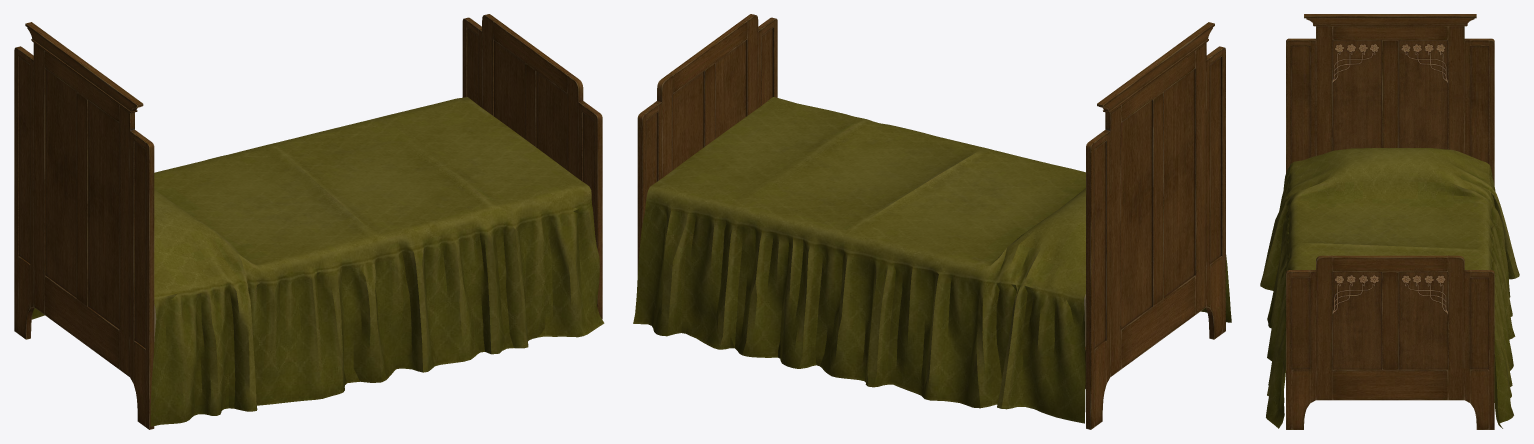
Rendered from bed-small-double.glb.
3 views of the same model, side by side, from view 1: azimuth 30°, elevation 25°; view 2: azimuth 150°, elevation 25°; view 3: azimuth 270°, elevation 25° (orthographic). The views are drawn at different scales.
Visible parts, largest first — view 1: bed-small-double; view 2: bed-small-double; view 3: bed-small-double.
Boxes of the visible parts, x1=… form: bed-small-double: x1=14, y1=14, x2=604, y2=429; bed-small-double: x1=633, y1=14, x2=1231, y2=429; bed-small-double: x1=1260, y1=14, x2=1519, y2=429.
Bounding box in the file's own units: 2.06 × 1.37 × 1.32.
Materials: 2 (2 with a texture image).
